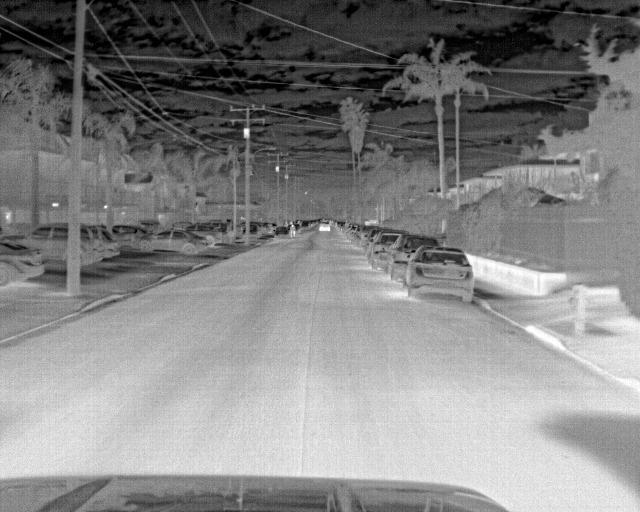car: (400, 243, 476, 302), (1, 221, 70, 270), (385, 234, 439, 280), (0, 236, 47, 287), (141, 228, 217, 256), (371, 233, 401, 272), (182, 223, 225, 245), (79, 226, 99, 268), (113, 223, 141, 253), (358, 224, 378, 247), (273, 225, 290, 238), (318, 219, 334, 232)
